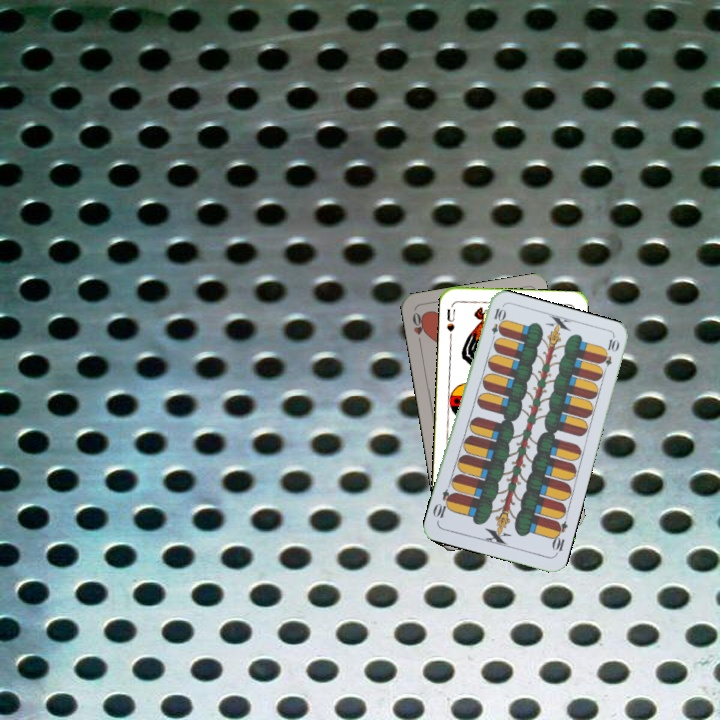E10: (548, 517, 570, 557), (487, 304, 506, 345)
HO: (408, 308, 428, 348)
SU: (443, 305, 457, 341)
